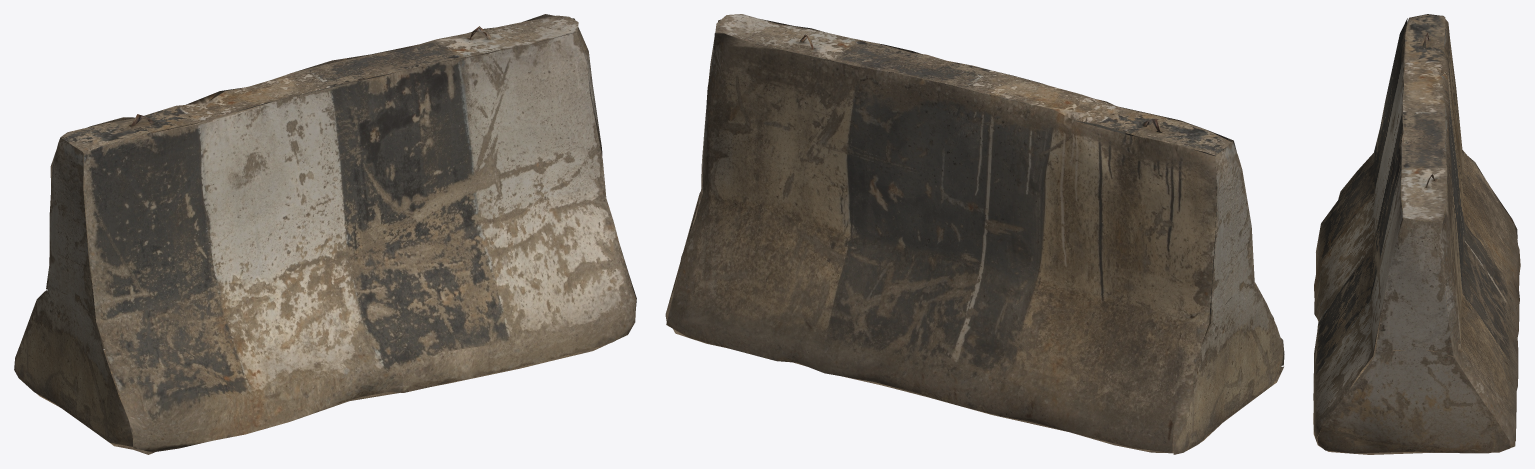
Rendered from concrete_road_barrier.glb.
3 views of the same model, side by side, from view 1: azimuth 30°, elevation 25°; view 2: azimuth 150°, elevation 25°; view 3: azimuth 270°, elevation 25° (orthographic). The views are drawn at different scales.
Visible parts, largest first — view 1: LOD0; view 2: LOD0; view 3: LOD0.
Part boxes in pixels (x1,y1,x2,y2): LOD0: [14, 14, 636, 454]; LOD0: [665, 14, 1284, 454]; LOD0: [1313, 14, 1520, 454].
Bounding box in the file's own units: 1.54 × 0.8323 × 0.6356.
1 material, 1 textured.
